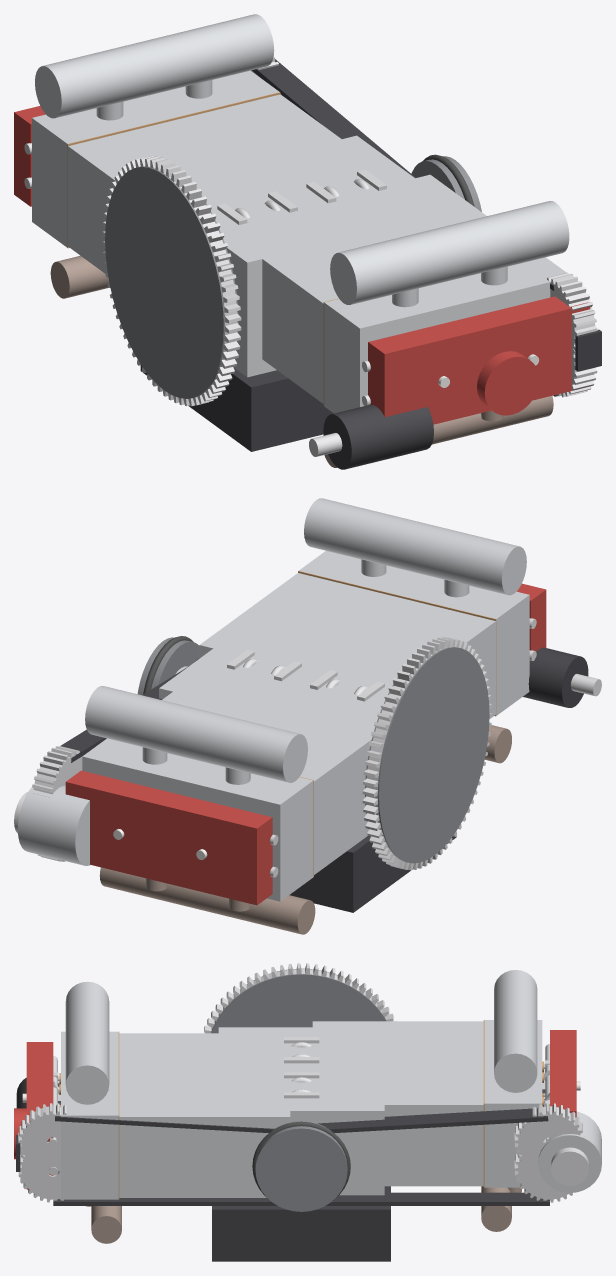
Rendered from combustion_4_boxer_90p0_8p6_8p6_dohc_4_no_correa_nafta.glb.
3 views of the same model, one above another, from view 1: azimuth 30°, elevation 25°; view 2: azimuth 150°, elevation 25°; view 3: azimuth 270°, elevation 25° (orthographic). The views are drawn at different scales.
Parts seen in each view (by area): view 1: bloque, volante_inercia, tapa_valvulas_1, multiple_admision_0, multiple_admision_1, culata_1, culata_0, carter, motor_arranque, distribucion_correa, filtro_aceite, distribucion_poleas (+6 smaller); view 2: bloque, volante_inercia, tapa_valvulas_0, multiple_admision_0, multiple_admision_1, culata_0, culata_1, alternador, multiple_escape_0, carter, motor_arranque, polea_ciguenal (+6 smaller); view 3: bloque, carter, distribucion_correa, volante_inercia, polea_ciguenal, distribucion_poleas, culata_1, multiple_admision_1, multiple_admision_0, culata_0, alternador, tapa_valvulas_0 (+4 smaller).
Boxes of the visible parts, x1=… form: bloque: x1=68, y1=94, x2=486, y2=403; volante_inercia: x1=102, y1=156, x2=241, y2=406; tapa_valvulas_1: x1=368, y1=296, x2=590, y2=424; multiple_admision_0: x1=35, y1=14, x2=274, y2=120; multiple_admision_1: x1=330, y1=201, x2=569, y2=307; culata_1: x1=324, y1=257, x2=566, y2=413; culata_0: x1=32, y1=70, x2=279, y2=247; carter: x1=140, y1=365, x2=333, y2=451; motor_arranque: x1=309, y1=405, x2=433, y2=469; distribucion_correa: x1=252, y1=59, x2=601, y2=396; filtro_aceite: x1=477, y1=351, x2=539, y2=415; distribucion_poleas: x1=251, y1=56, x2=597, y2=397; bloque: x1=159, y1=573, x2=495, y2=874; volante_inercia: x1=362, y1=637, x2=491, y2=870; tapa_valvulas_0: x1=65, y1=770, x2=272, y2=905; multiple_admision_0: x1=85, y1=686, x2=307, y2=784; multiple_admision_1: x1=304, y1=498, x2=526, y2=597; culata_0: x1=82, y1=738, x2=313, y2=901; culata_1: x1=299, y1=551, x2=529, y2=715; alternador: x1=14, y1=785, x2=90, y2=865; multiple_escape_0: x1=99, y1=867, x2=315, y2=934; carter: x1=290, y1=835, x2=456, y2=912; motor_arranque: x1=523, y1=647, x2=601, y2=707; polea_ciguenal: x1=137, y1=636, x2=199, y2=695; bloque: x1=119, y1=1021, x2=483, y2=1197; carter: x1=212, y1=1186, x2=390, y2=1261; distribucion_correa: x1=16, y1=1108, x2=549, y2=1205; volante_inercia: x1=204, y1=963, x2=395, y2=1033; polea_ciguenal: x1=252, y1=1121, x2=350, y2=1211; distribucion_poleas: x1=18, y1=1103, x2=584, y2=1202; culata_1: x1=61, y1=1031, x2=118, y2=1199; multiple_admision_1: x1=65, y1=981, x2=109, y2=1104; multiple_admision_0: x1=494, y1=970, x2=537, y2=1092; culata_0: x1=484, y1=1020, x2=542, y2=1187; alternador: x1=538, y1=1111, x2=601, y2=1192; tapa_valvulas_0: x1=550, y1=1030, x2=576, y2=1117.
Size of the model in its own units: 38.18 by 30.1 by 79.12.
